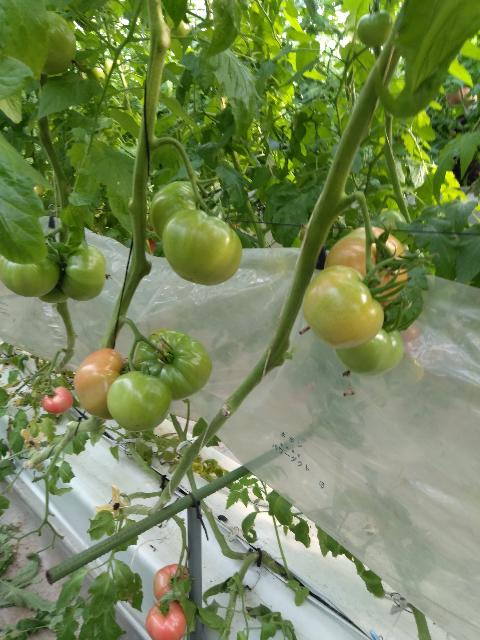b_green: (302, 265, 383, 348), (162, 209, 242, 286), (133, 328, 212, 401), (334, 307, 404, 376), (150, 181, 223, 242), (106, 371, 172, 432), (0, 243, 60, 298), (61, 243, 106, 302), (41, 10, 77, 74), (356, 10, 393, 47)
b_half_ripened: (325, 226, 407, 308), (73, 348, 133, 420), (145, 600, 187, 640), (153, 563, 189, 601), (43, 387, 73, 415)
